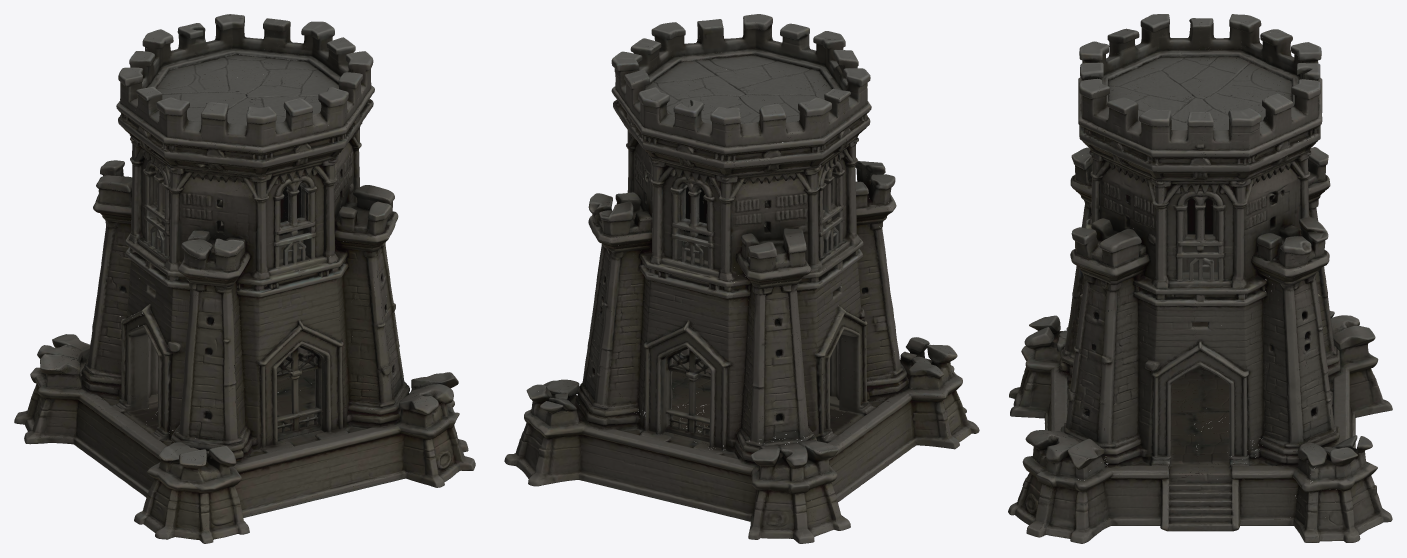
Rendered from rook.glb.
The picture shows the model from 3 angles, left to right: view 1: azimuth 30°, elevation 25°; view 2: azimuth 150°, elevation 25°; view 3: azimuth 270°, elevation 25°; orthographic projection. The views are drawn at different scales.
Visible parts, largest first — view 1: Object_7, Object_6, Object_8, Object_9, Object_5, Object_4, Object_2, Object_10, Object_3; view 2: Object_2, Object_3, Object_4, Object_5, Object_9, Object_8, Object_6, Object_7, Object_10; view 3: Object_9, Object_5, Object_4, Object_7, Object_8, Object_2, Object_3, Object_10, Object_6.
Boxes of the visible parts, box(x1,y1,x2,y2) form: Object_7: box(134, 87, 475, 542); Object_6: box(109, 88, 411, 509); Object_8: box(116, 72, 473, 543); Object_9: box(124, 51, 395, 494); Object_5: box(34, 18, 368, 455); Object_4: box(39, 15, 323, 448); Object_2: box(14, 14, 288, 475); Object_10: box(40, 40, 360, 475); Object_3: box(30, 15, 291, 464); Object_2: box(504, 89, 871, 543); Object_3: box(523, 93, 855, 530); Object_4: box(570, 70, 841, 531); Object_5: box(581, 43, 850, 514); Object_9: box(629, 22, 908, 464); Object_8: box(630, 19, 973, 477); Object_6: box(615, 14, 950, 457); Object_7: box(648, 18, 979, 449); Object_10: box(620, 32, 872, 486); Object_9: box(1108, 14, 1207, 513); Object_5: box(1191, 14, 1305, 531); Object_4: box(1192, 21, 1330, 542); Object_7: box(1009, 41, 1197, 543); Object_8: box(1008, 29, 1206, 532); Object_2: box(1197, 51, 1392, 542); Object_3: box(1199, 43, 1383, 542); Object_10: box(1158, 18, 1290, 531); Object_6: box(1067, 20, 1289, 528).
Size of the model in its own units: 0.9018 by 1 by 0.8805.
1 material, 1 textured.
